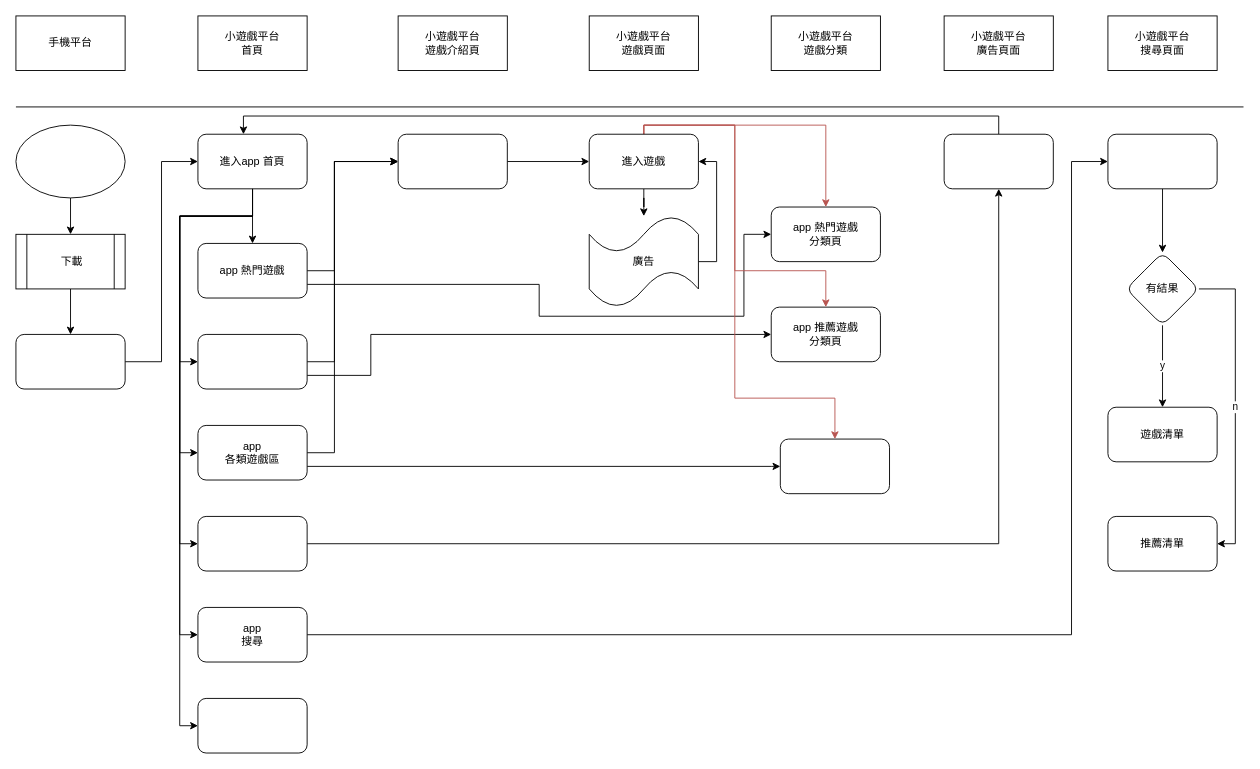
Some shapes in this 1260 by 769 pixel diagram are drawn without their labels. Here are the shapes that lost their labels. From the top down, the box of each, then its label:
(15, 124, 125, 198): 訪客
(397, 133, 507, 189): 遊戲介紹頁面
(943, 133, 1053, 189): 廣告頁面
(1107, 133, 1217, 189): 搜尋頁面
(15, 334, 125, 389): 點選app
(197, 334, 307, 389): app 推薦遊戲
(779, 438, 890, 494): app 各類遊戲 分類頁
(197, 516, 307, 571): app banner
(197, 698, 307, 753): app footer
